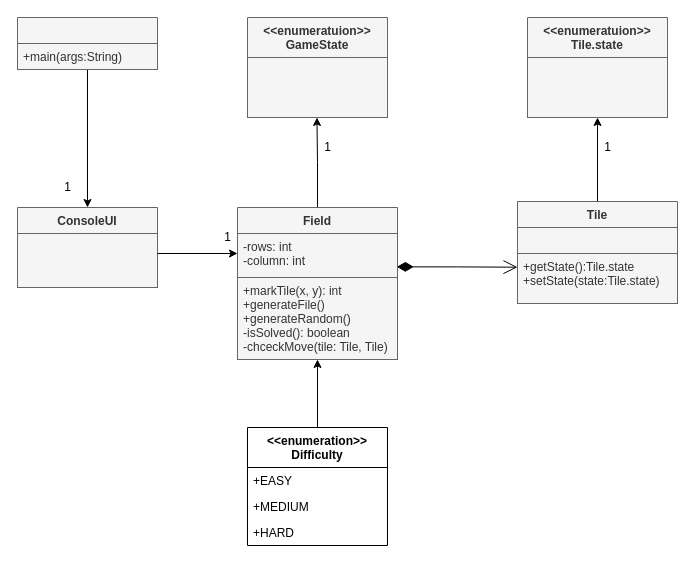
This 695x566 diagram has some shape labels left out. Each missing label, with the box of its shape:
+play(field: Field) +draw() -readInput(): String: (16, 232, 158, 288)
+PLAYING +SOLVED: (246, 56, 388, 118)
+SOURCE +DEST +ACTIVE +DELETED: (526, 56, 668, 118)
-character: char: (516, 226, 678, 254)
Taptiles: (16, 16, 158, 70)
